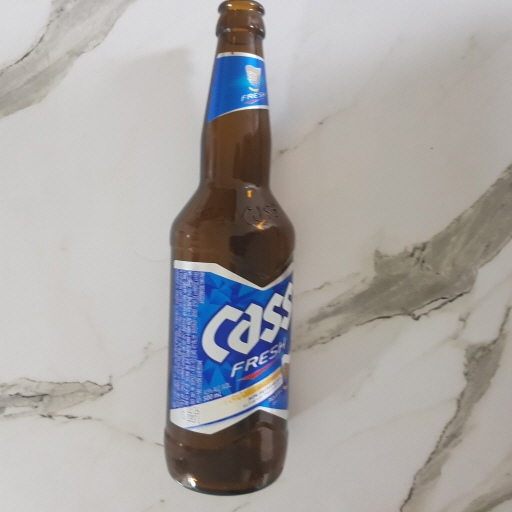Glass_1: (161, 1, 301, 499)
